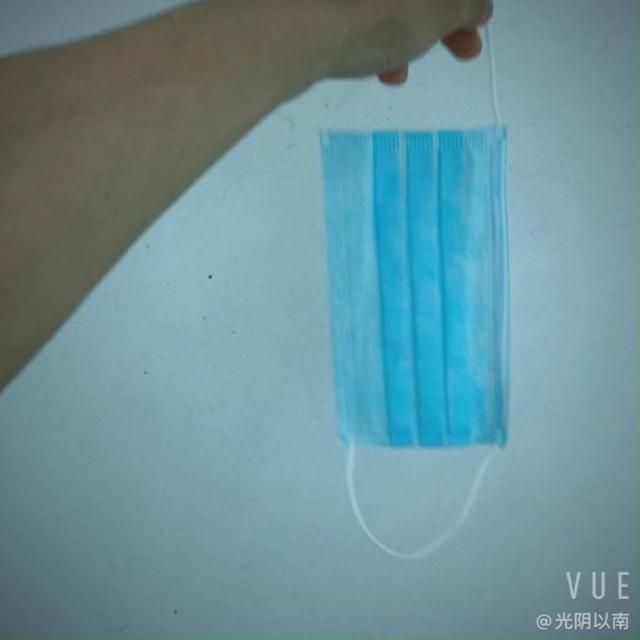face mask: (309, 115, 522, 459)
